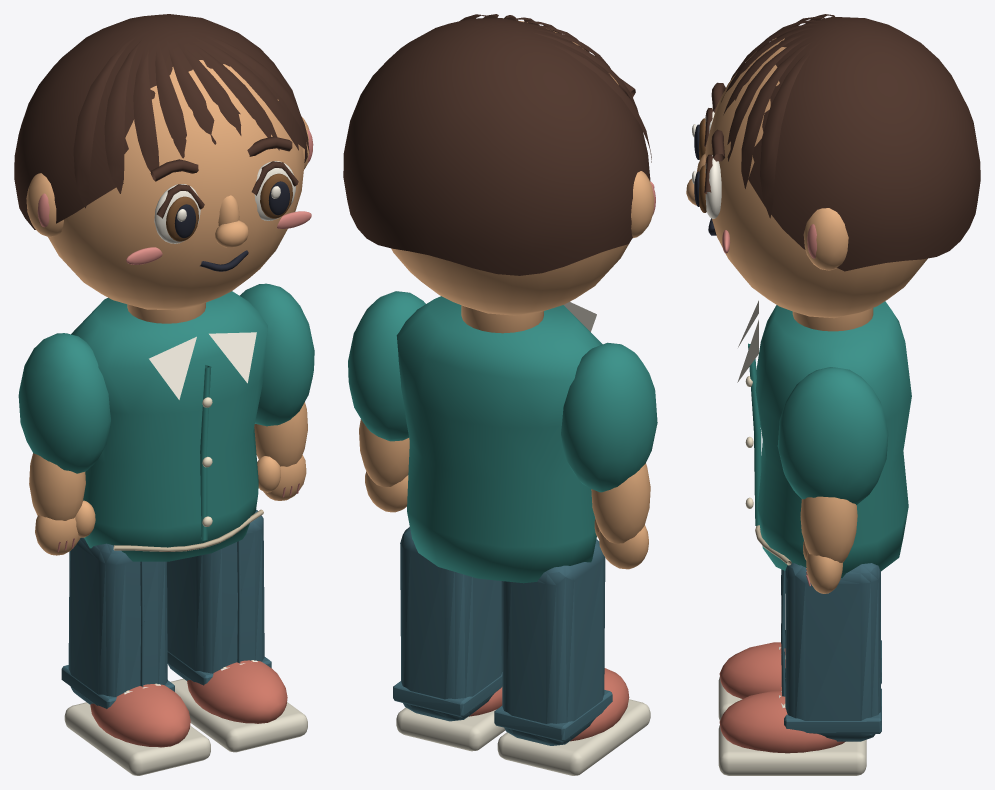
File: male.glb
The picture shows the model from 3 angles, left to right: view 1: azimuth 30°, elevation 25°; view 2: azimuth 150°, elevation 25°; view 3: azimuth 270°, elevation 25°; orthographic projection. The views are drawn at different scales.
Parts seen in each view (by area): view 1: Crafted_teal, Head_hair, Head_skin, LegL_pants, LegR_pants, ArmL_teal, ArmR_teal, ArmL_skin, LegL_coral, LegR_coral, LegL_rubber, ArmR_skin (+8 smaller); view 2: Head_hair, Crafted_teal, LegL_pants, LegR_pants, ArmL_teal, Head_skin, ArmR_teal, ArmL_skin, LegL_rubber, ArmR_skin, LegR_rubber, LegL_coral (+1 smaller); view 3: Head_hair, Crafted_teal, Head_skin, LegR_pants, ArmR_teal, ArmR_skin, LegR_rubber, LegR_coral, LegL_coral, Crafted_skin, Head_white, Crafted_white (+1 smaller).
Part boxes in pixels (x1,y1,x2,y2): Crafted_teal: (71,291,267,561); Head_hair: (14,14,309,229); Head_skin: (26,60,309,310); LegL_pants: (61,537,174,708); LegR_pants: (167,509,271,685); ArmL_teal: (18,333,110,473); ArmR_teal: (240,283,314,426); ArmL_skin: (29,453,95,555); LegL_coral: (90,684,190,747); LegR_coral: (187,660,287,723); LegL_rubber: (64,702,210,775); ArmR_skin: (254,402,307,500); Head_hair: (343,14,651,275); Crafted_teal: (396,296,602,583); LegL_pants: (494,539,612,745); LegR_pants: (393,527,502,721); ArmL_teal: (561,342,657,492); Head_skin: (391,21,654,315); ArmR_teal: (348,291,425,441); ArmL_skin: (591,463,650,569); LegL_rubber: (497,699,650,775); ArmR_skin: (359,419,409,512); LegR_rubber: (396,707,505,751); LegL_coral: (570,668,629,741); Head_hair: (704,14,980,271); Crafted_teal: (748,301,911,577); Head_skin: (686,38,927,318); LegR_pants: (781,563,881,741); ArmR_teal: (777,367,888,504); ArmR_skin: (800,496,857,593); LegR_rubber: (718,725,866,775); LegR_coral: (719,690,845,753); LegL_coral: (719,642,785,698); Crafted_skin: (792,308,873,331); Head_white: (692,108,721,218); Crafted_white: (737,300,758,382).
Size of the model in its own units: 0.98 by 2.31 by 0.8761.
